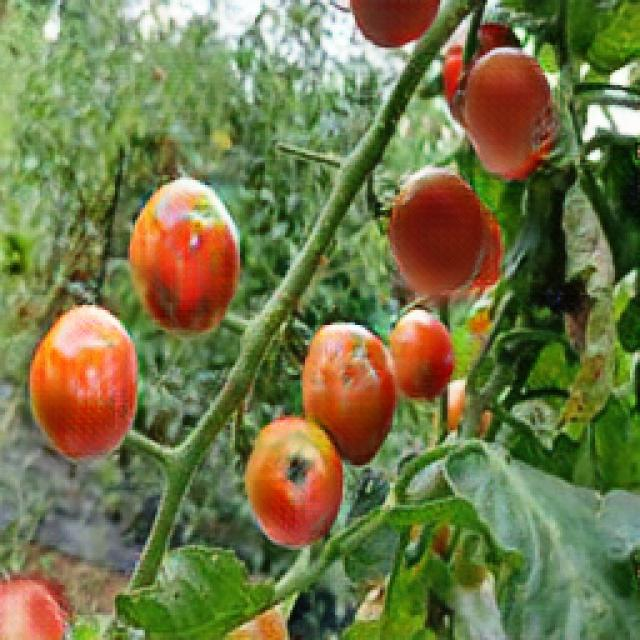overripe tomato: (130, 172, 238, 336), (30, 306, 134, 464), (245, 420, 346, 552), (304, 324, 398, 458)
